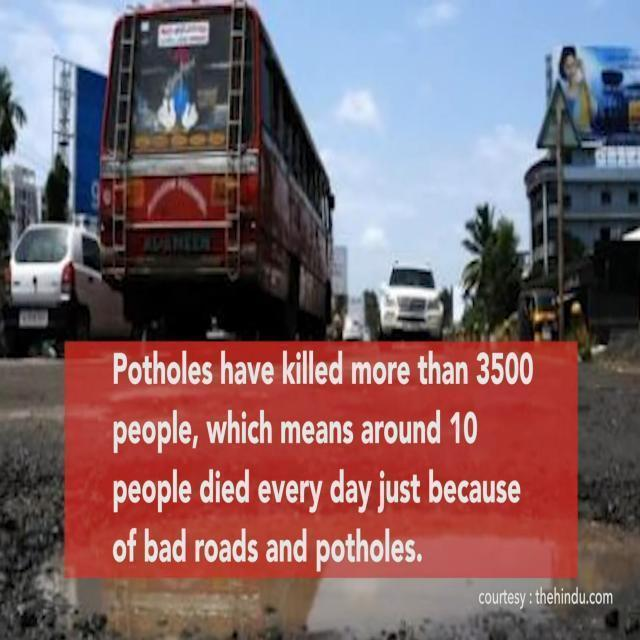pothole: (0, 424, 640, 640)
